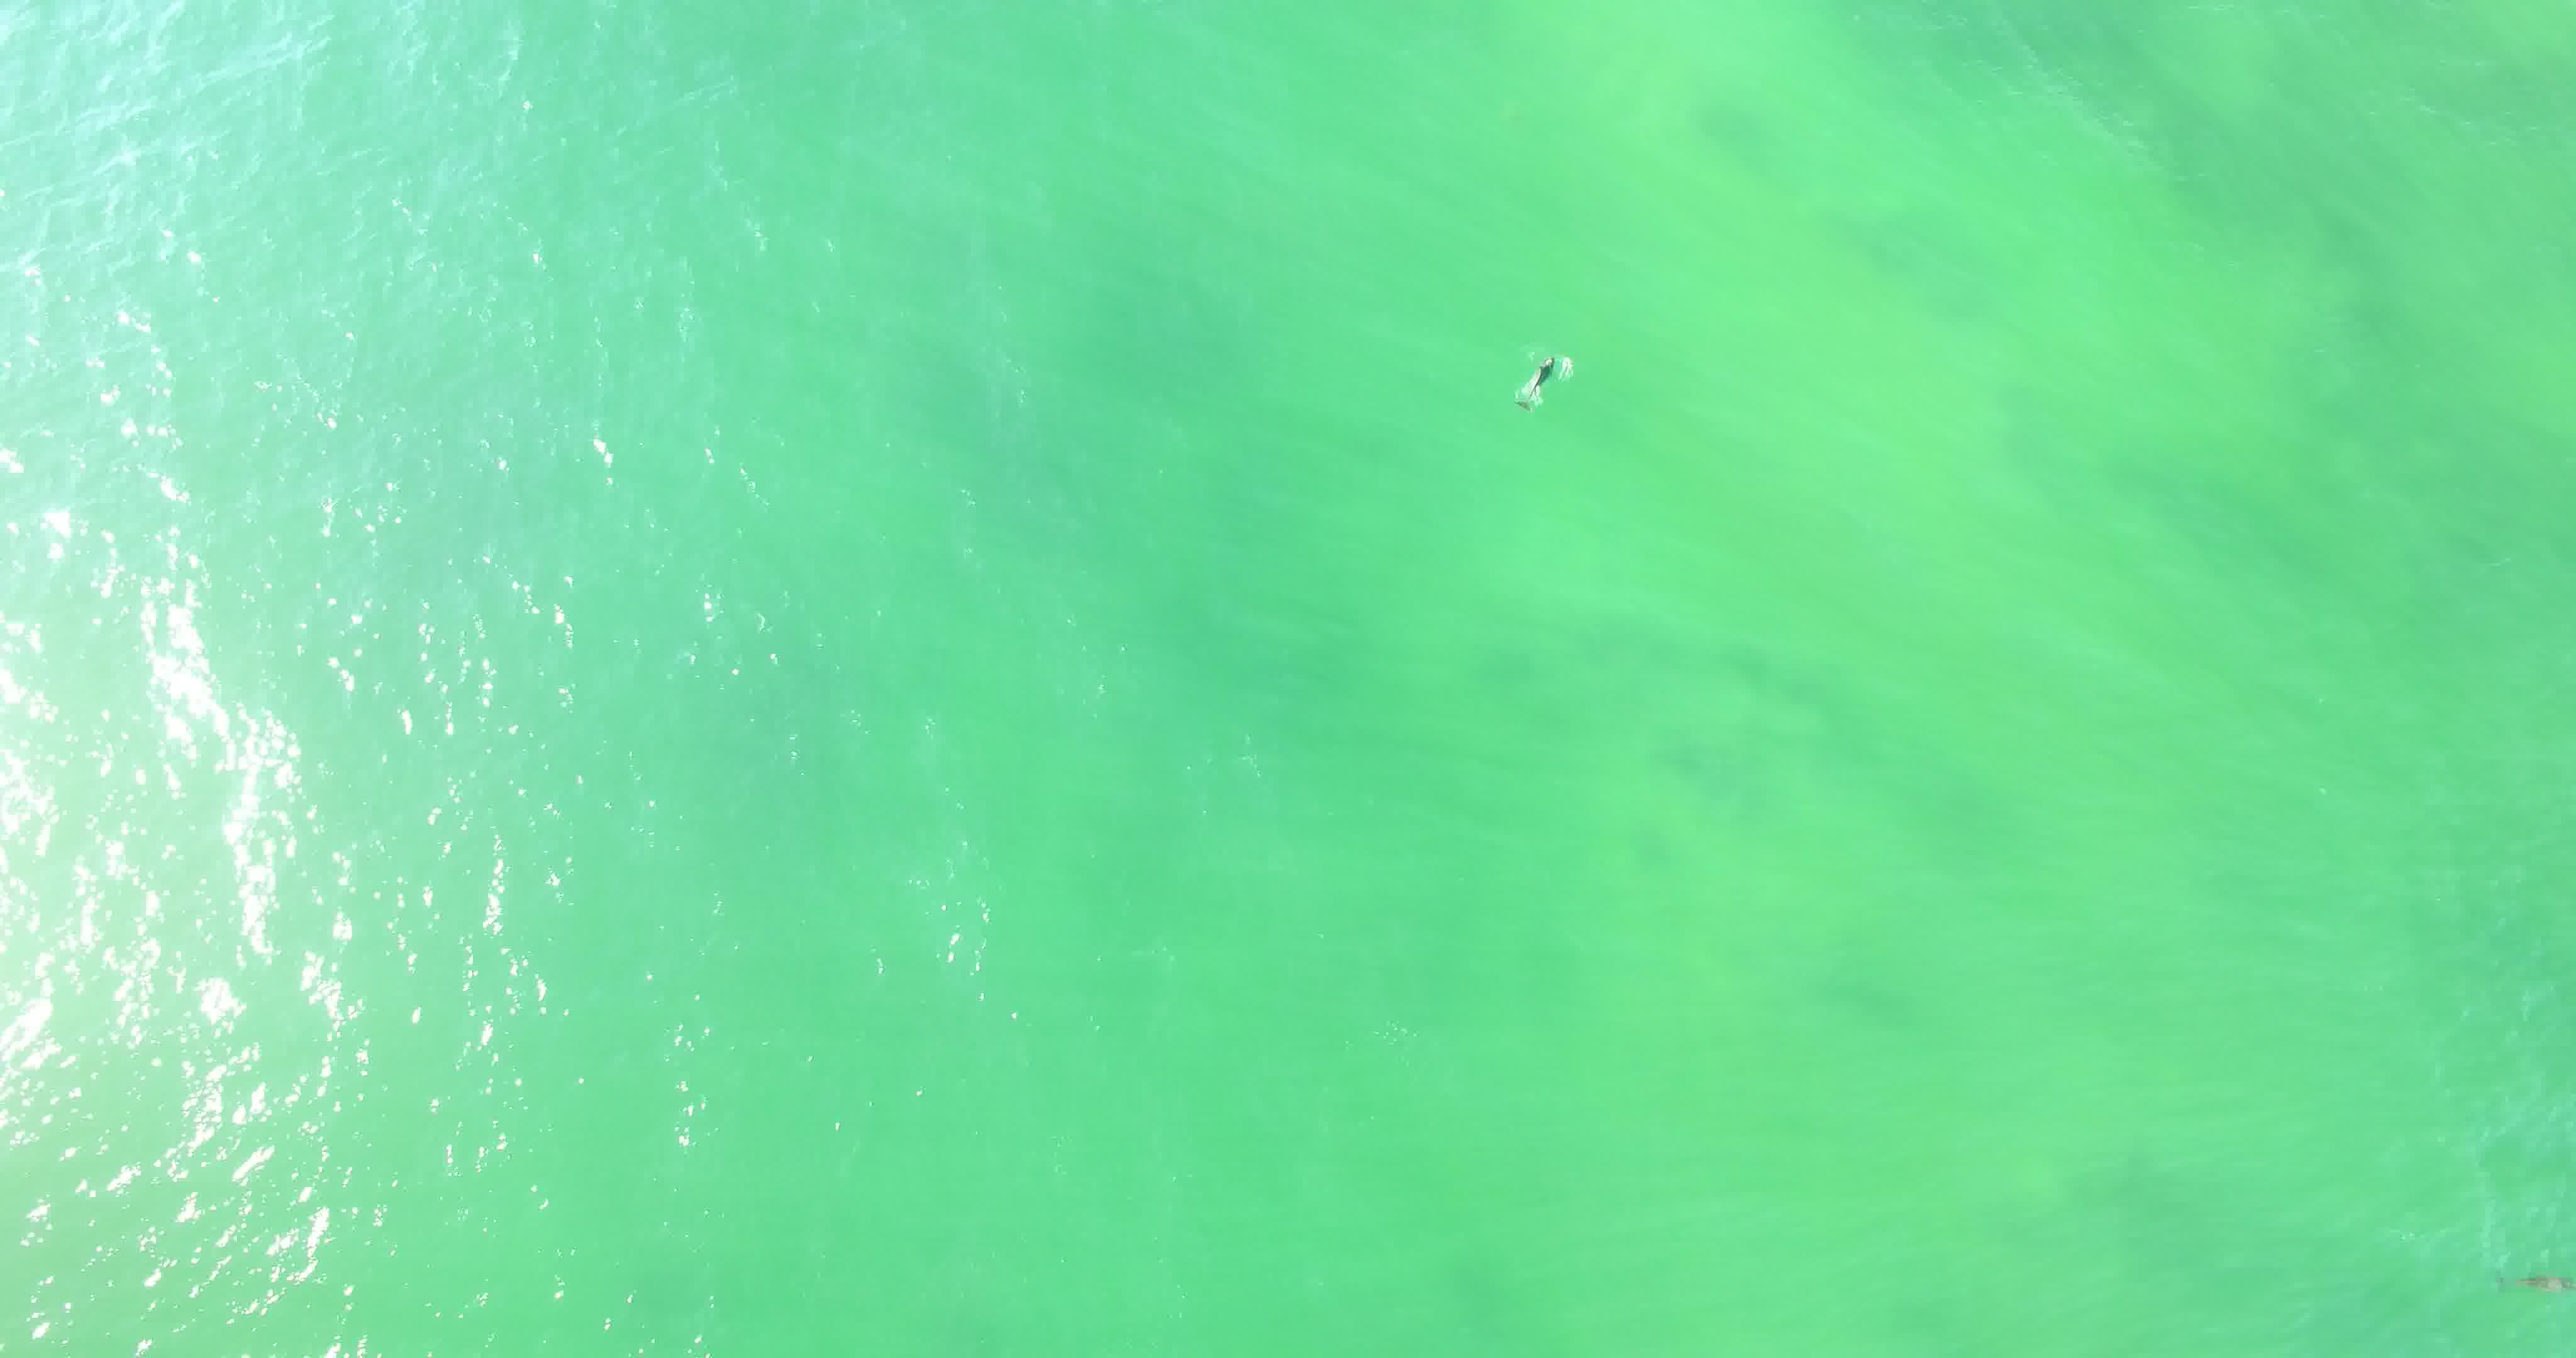dolphin: (1491, 319, 1579, 426)
